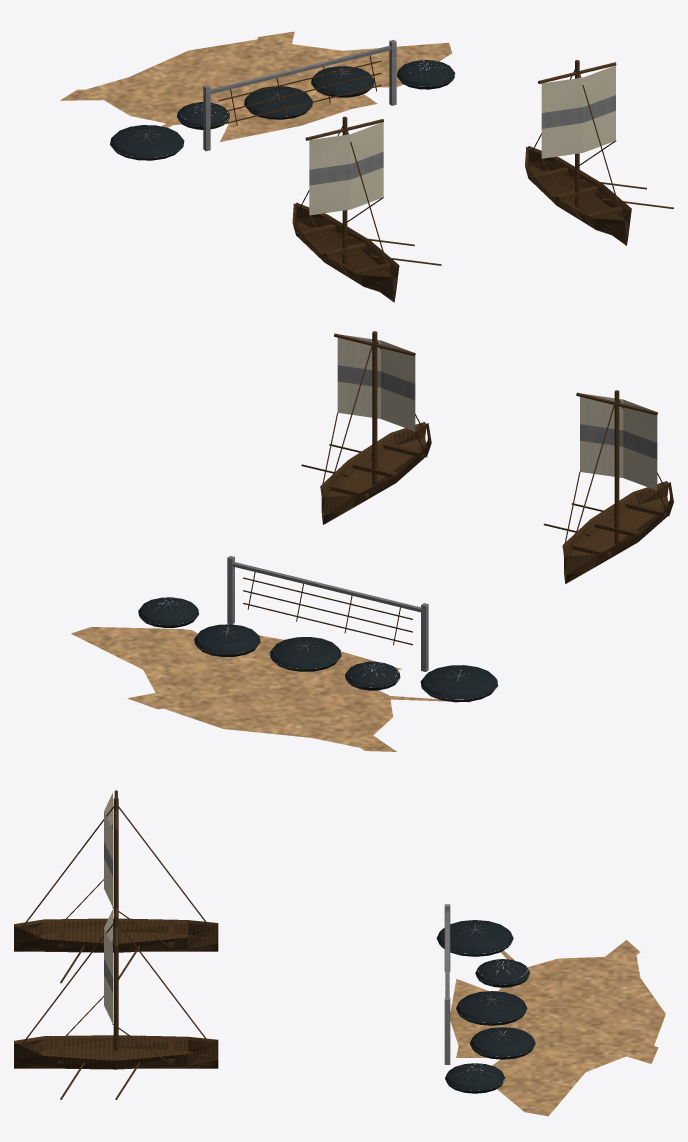
The model's file is fishing_boats-bronze-israelite.glb.
3 views of the same model, one above another, from view 1: azimuth 30°, elevation 25°; view 2: azimuth 150°, elevation 25°; view 3: azimuth 270°, elevation 25° (orthographic). The views are drawn at different scales.
Visible parts, largest first — view 1: LOD0; view 2: LOD0; view 3: LOD0.
Part boxes in pixels (bbox=[...]): LOD0: bbox=[60, 31, 673, 302]; LOD0: bbox=[71, 331, 673, 751]; LOD0: bbox=[14, 790, 665, 1116].
Size of what is drawn, in the model's own units: 1.95 by 0.64 by 2.39.
Materials: 3 (3 with a texture image).
